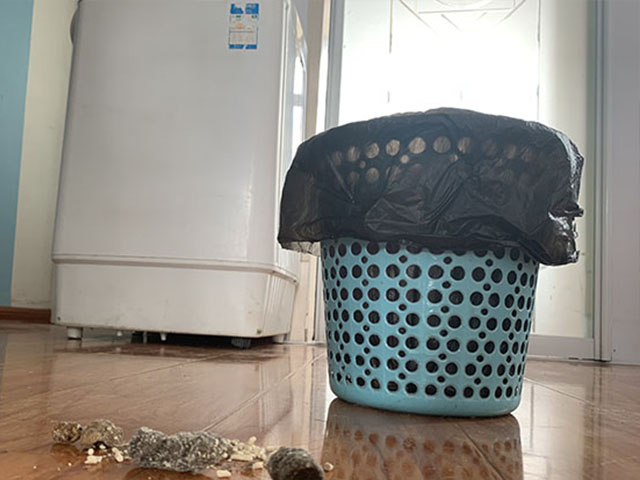feces: (126, 422, 248, 478), (48, 417, 118, 462), (261, 444, 322, 480)
trashcan: (276, 105, 586, 420)
